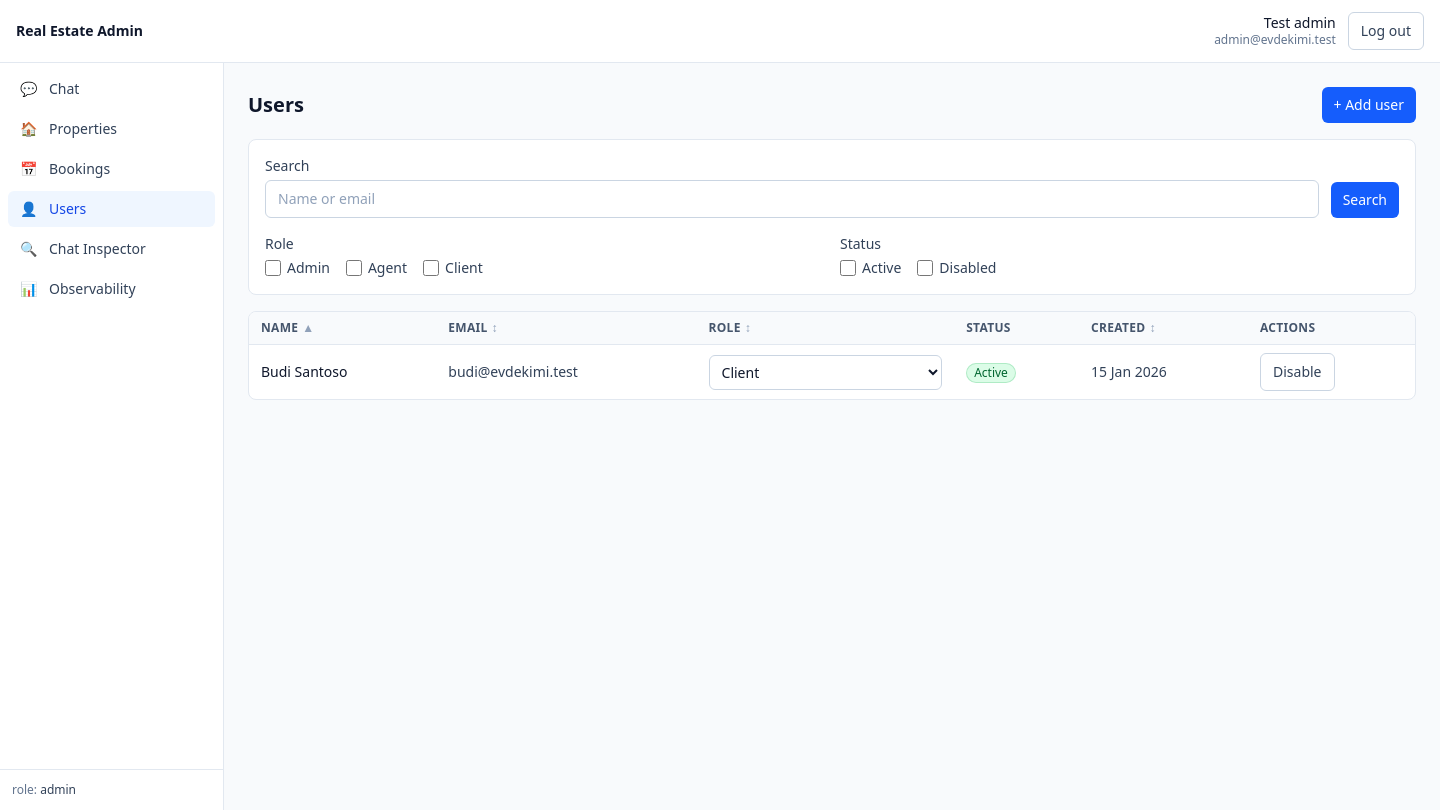
it: UsersPage create › creates a user from the modal and closes it
Expected: the text "Budi Santoso" is shown, [249,344,436,399]
Click the button "+ Add user". click: (1369, 105)
box: [1322,87,1416,123]
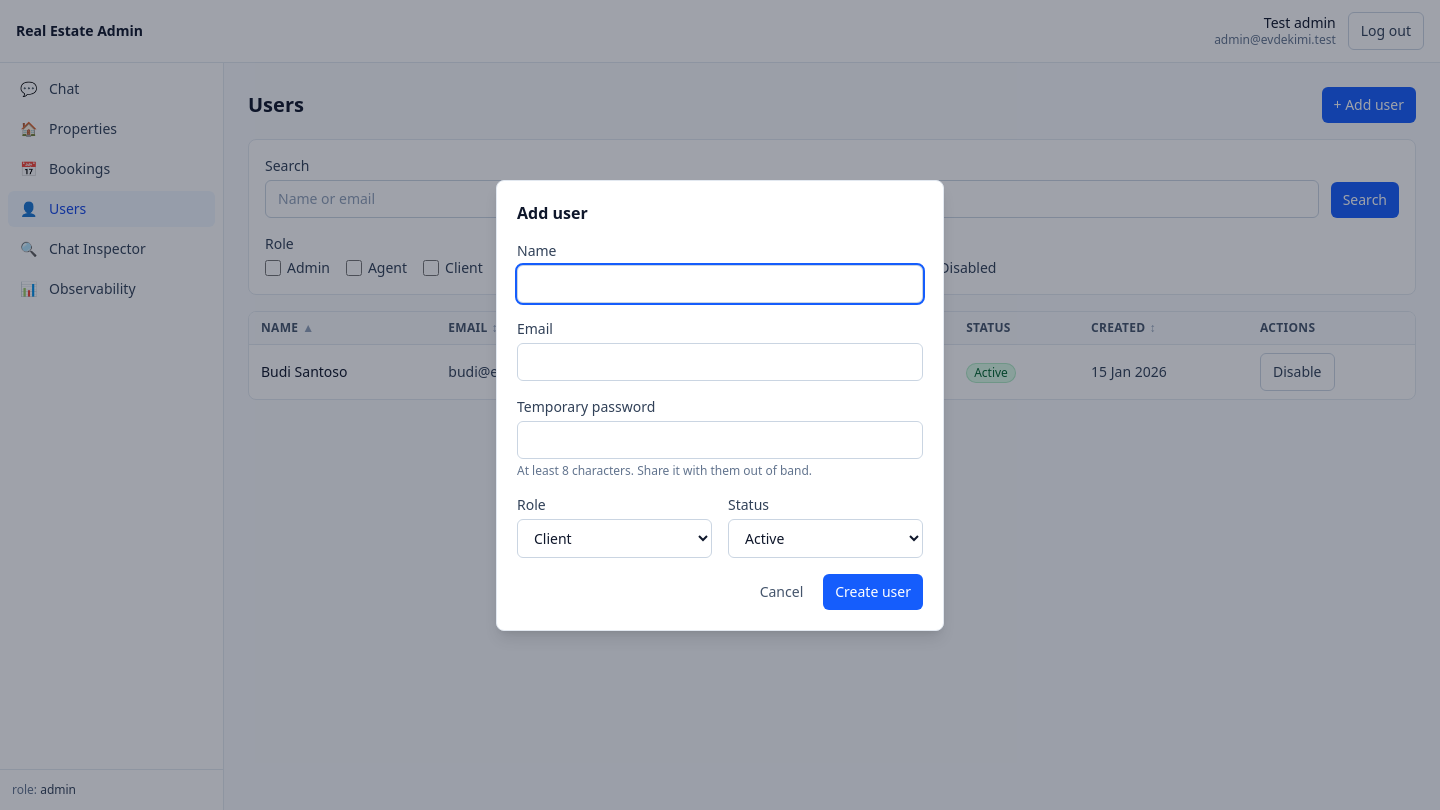
Type "Ana Putri" into the field labelled "Name". click: (720, 284)
box: [517,264,923,302]
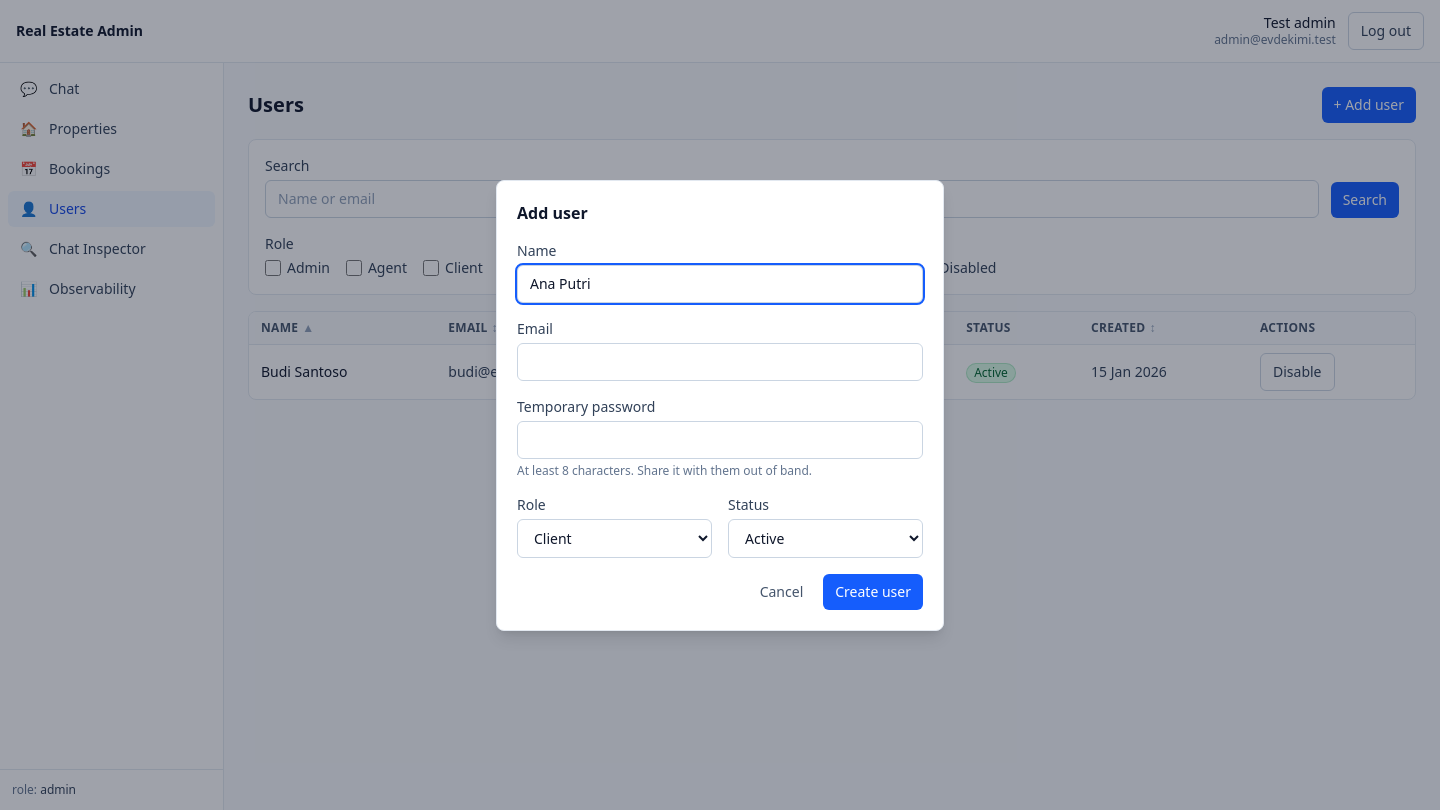
Type "  Ana@Evdekimi.test  " into the field labelled "Email". click: (720, 362)
box: [517,342,923,380]
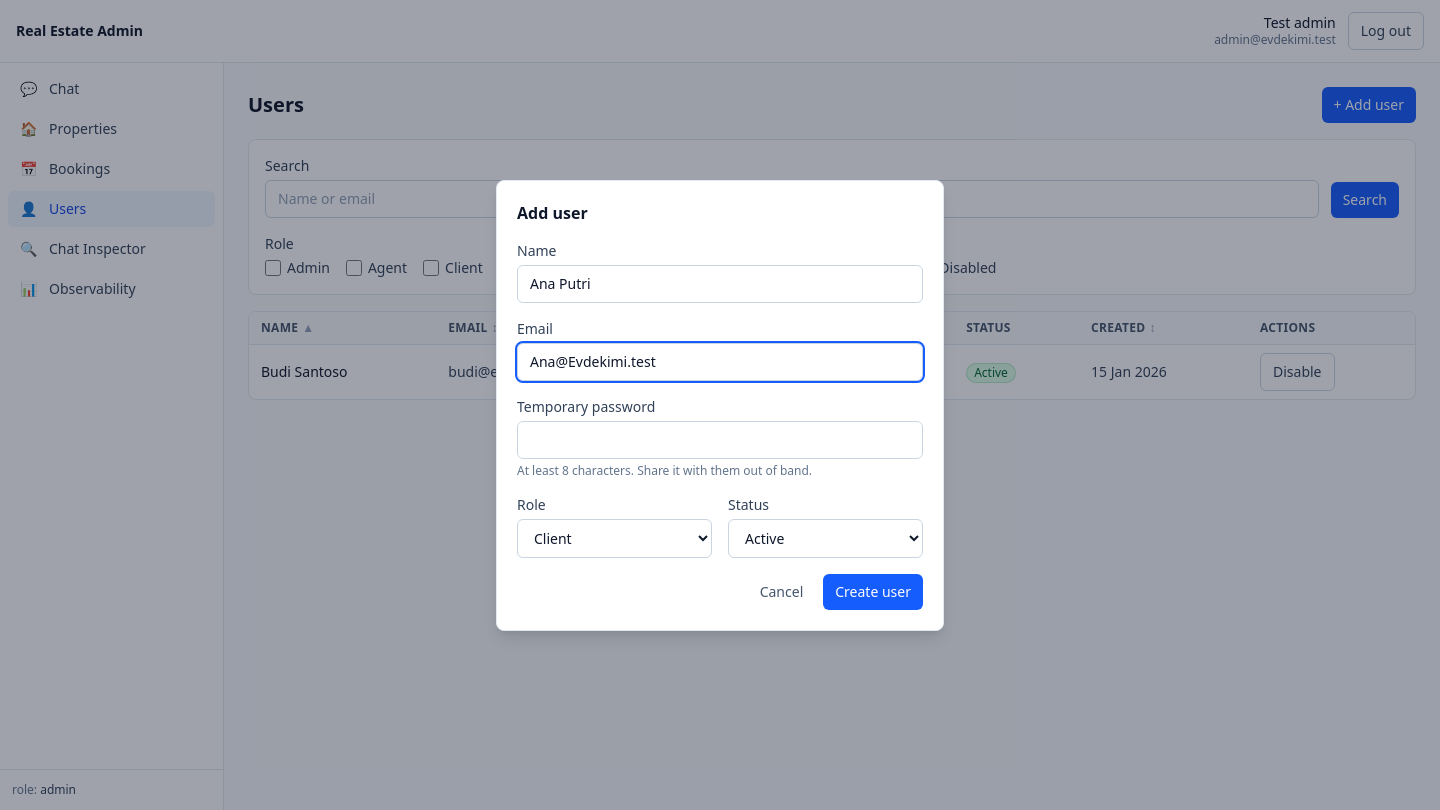
Type "correct horse " into the password field labelled "Temporary password". click: (720, 440)
box: [517,420,923,458]
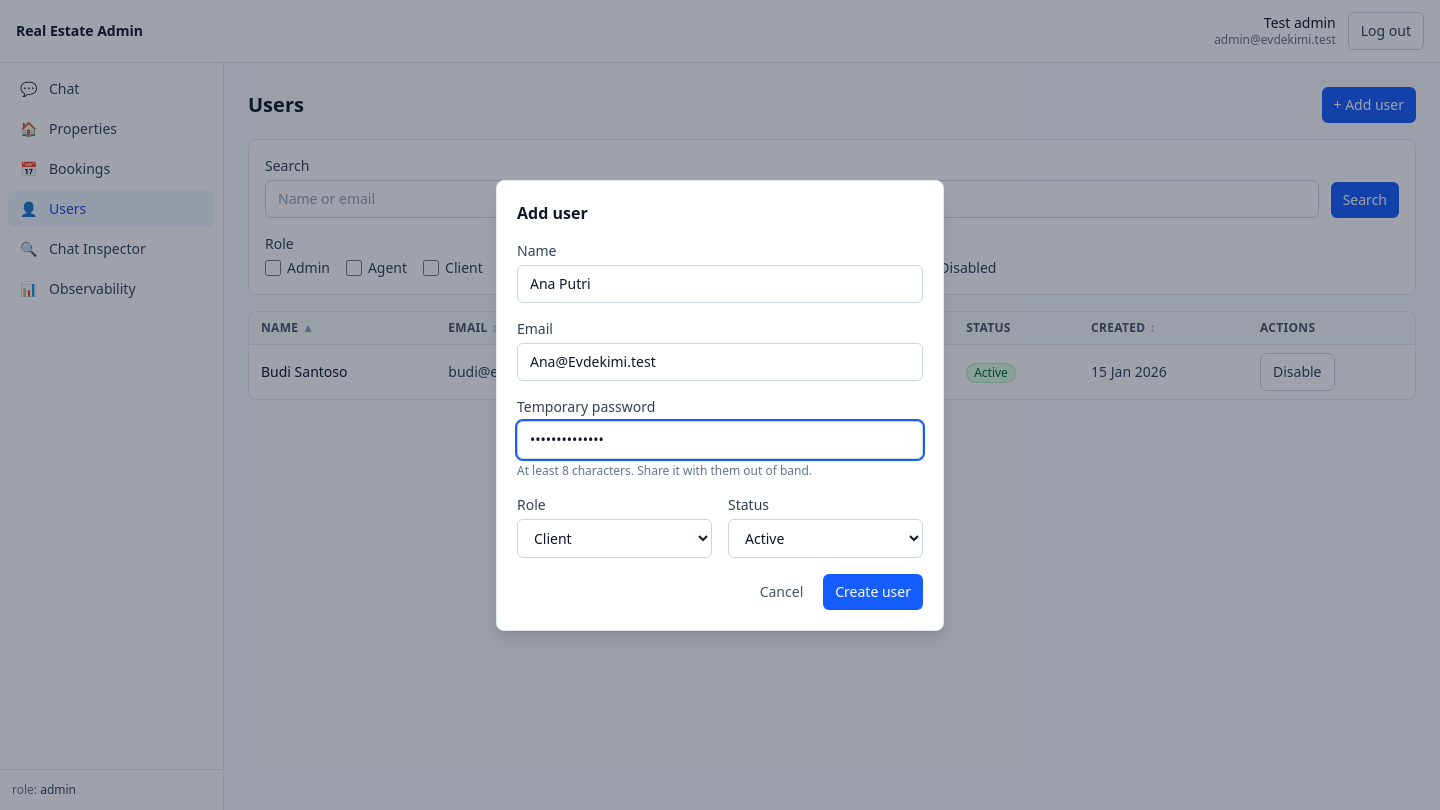
Select "Agent" in the dropdown labelled "Role". click: (614, 538)
box: [517,518,712,558]
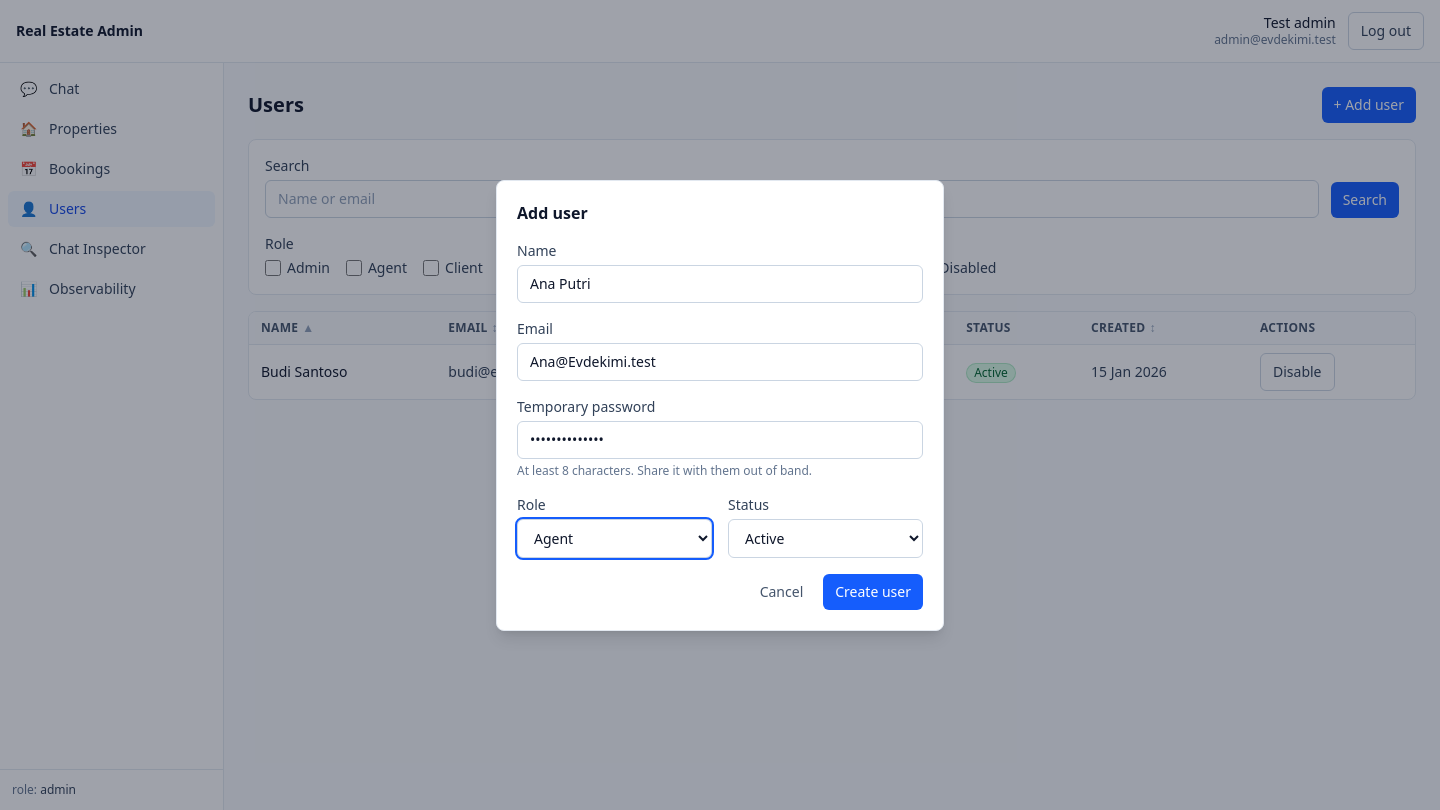
Click the button "Create user". click: (873, 592)
box: [823,574,923,610]
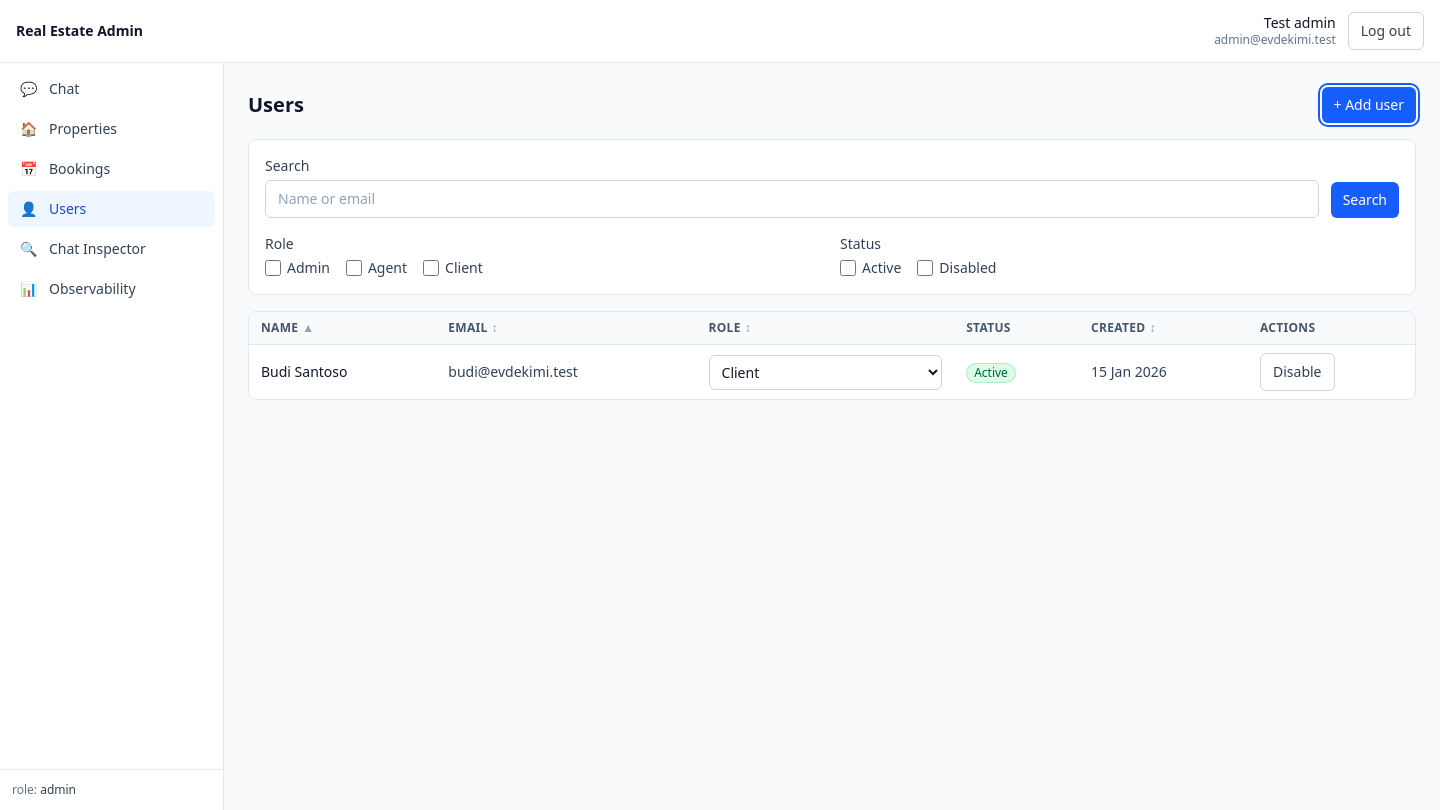
Expected: the dialog is gone
